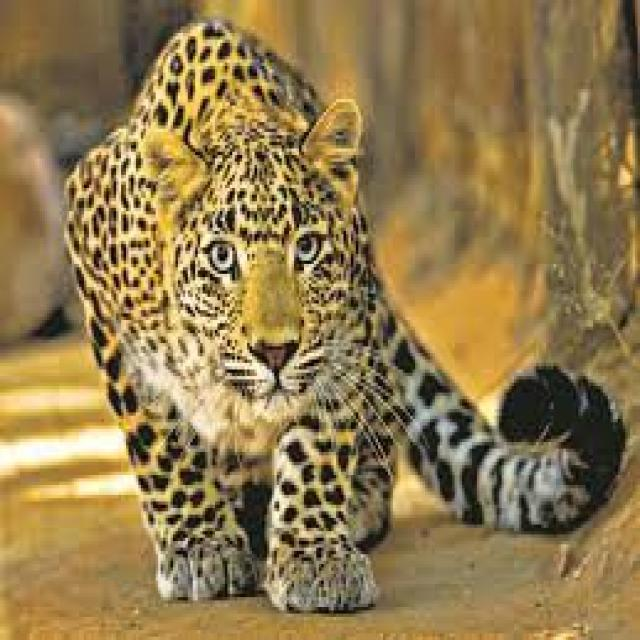Leopard: (59, 20, 620, 602)
